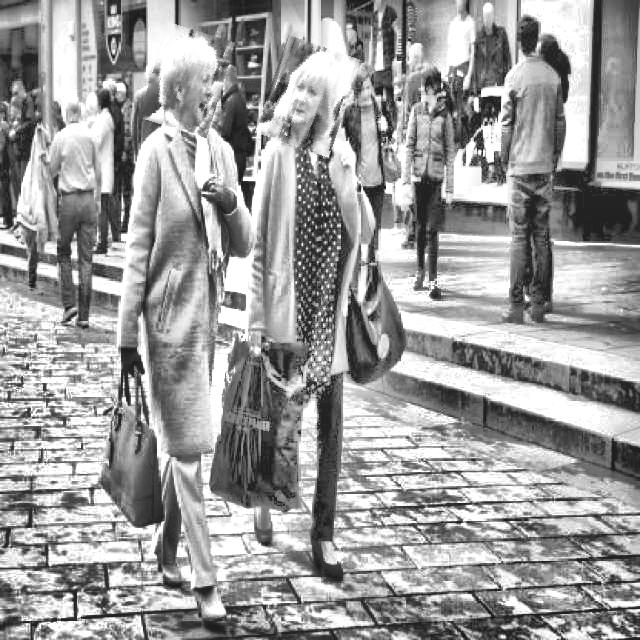happy: (144, 26, 228, 134)
neutral: (263, 40, 355, 153)
